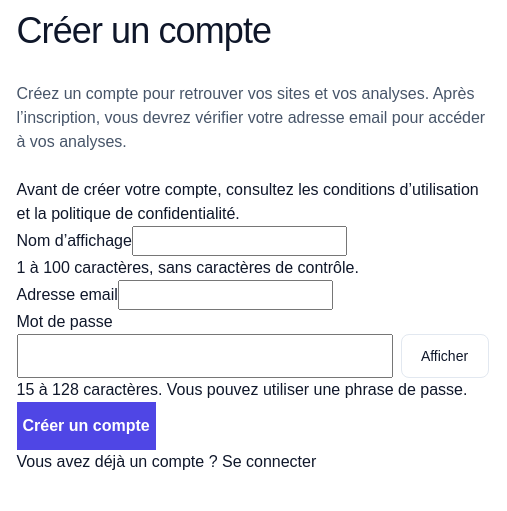
Test: account screens › explains an expired form and lets the user resubmit without retyping in fr
In the field labelled "Nom d’affichage": (239, 241) [132,226,347,256], type "Fixture"
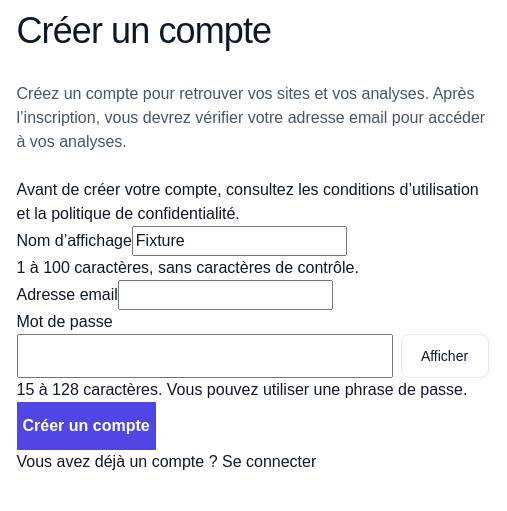
In the field labelled "Adresse email": (225, 295) [118,280,333,310], type "fixture@example.com"
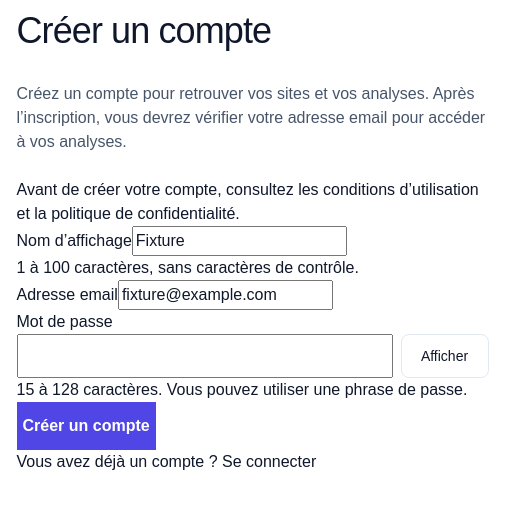
In the password field labelled "Mot de passe": (204, 356) [16,334,392,378], type "synthetic long password"
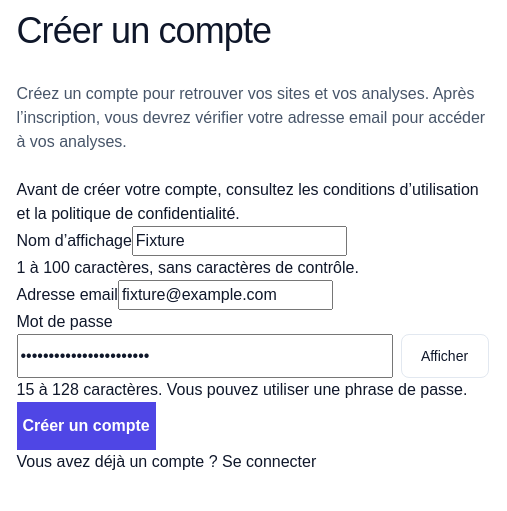
Submit the form named "Créer un compte", box [16,226,488,450]
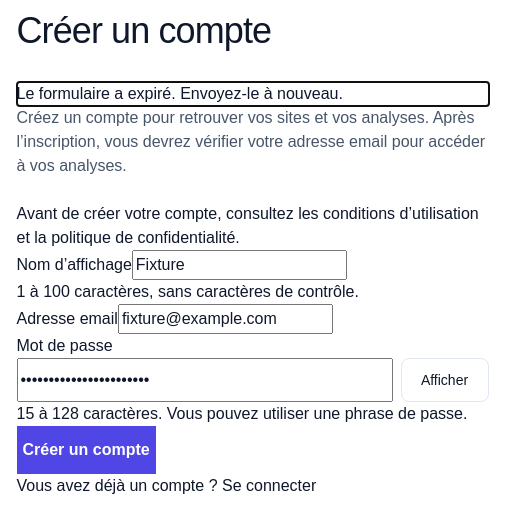
Expected: the message reads "Le formulaire a expiré. Envoyez-le à nouveau.", [16,85,343,102]
Submit the form named "Créer un compte", box [16,250,488,474]
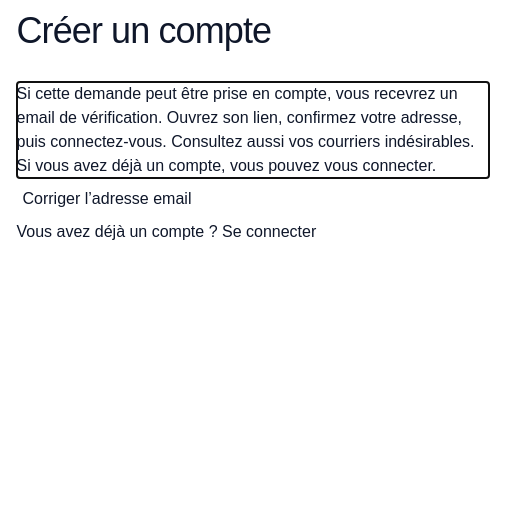
Expected: the message is shown, [16,82,488,178]
